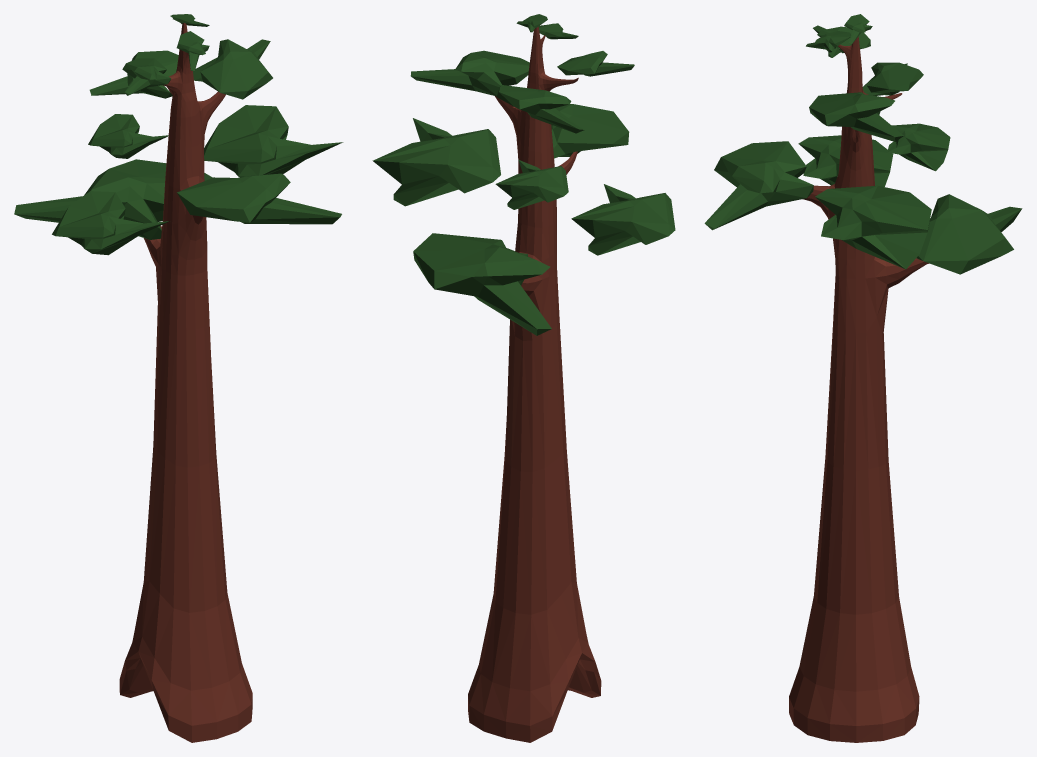
Rendered from giant-sequioa.dae.
3 views of the same model, side by side, from view 1: azimuth 30°, elevation 25°; view 2: azimuth 150°, elevation 25°; view 3: azimuth 270°, elevation 25° (orthographic).
Parts seen in each view (by area): view 1: giantSequioa, Icosphere_008, Icosphere_001, Icosphere, Icosphere_007, Icosphere_002, Icosphere_009, Icosphere_003, Icosphere_004, Icosphere_005; view 2: giantSequioa, Icosphere, Icosphere_008, Icosphere_007, Icosphere_002, Icosphere_001, Icosphere_009, Icosphere_003, Icosphere_004; view 3: giantSequioa, Icosphere_008, Icosphere_001, Icosphere, Icosphere_002, Icosphere_007, Icosphere_009, Icosphere_003, Icosphere_004, Icosphere_005.
Part boxes in pixels (bbox=[...]): giantSequioa: bbox=[119, 23, 252, 742]; Icosphere_008: bbox=[204, 105, 343, 177]; Icosphere_001: bbox=[177, 173, 341, 224]; Icosphere: bbox=[14, 159, 212, 239]; Icosphere_007: bbox=[52, 191, 169, 255]; Icosphere_002: bbox=[193, 39, 272, 99]; Icosphere_009: bbox=[88, 114, 168, 158]; Icosphere_003: bbox=[89, 50, 178, 98]; Icosphere_004: bbox=[122, 58, 171, 95]; Icosphere_005: bbox=[176, 31, 209, 71]; giantSequioa: bbox=[468, 26, 601, 742]; Icosphere: bbox=[413, 233, 551, 335]; Icosphere_008: bbox=[372, 118, 500, 206]; Icosphere_007: bbox=[571, 184, 675, 255]; Icosphere_002: bbox=[410, 50, 529, 96]; Icosphere_001: bbox=[551, 104, 629, 158]; Icosphere_009: bbox=[495, 159, 568, 209]; Icosphere_003: bbox=[496, 85, 584, 133]; Icosphere_004: bbox=[557, 51, 634, 76]; giantSequioa: bbox=[789, 36, 929, 742]; Icosphere_008: bbox=[815, 185, 931, 269]; Icosphere_001: bbox=[704, 141, 813, 230]; Icosphere: bbox=[916, 194, 1022, 274]; Icosphere_002: bbox=[809, 92, 903, 141]; Icosphere_007: bbox=[798, 135, 893, 186]; Icosphere_009: bbox=[887, 123, 950, 171]; Icosphere_003: bbox=[862, 62, 923, 95]; Icosphere_004: bbox=[813, 25, 870, 57]; Icosphere_005: bbox=[806, 31, 851, 52].
Bounding box in the file's own units: 3.04 × 3.06 × 7.38.
